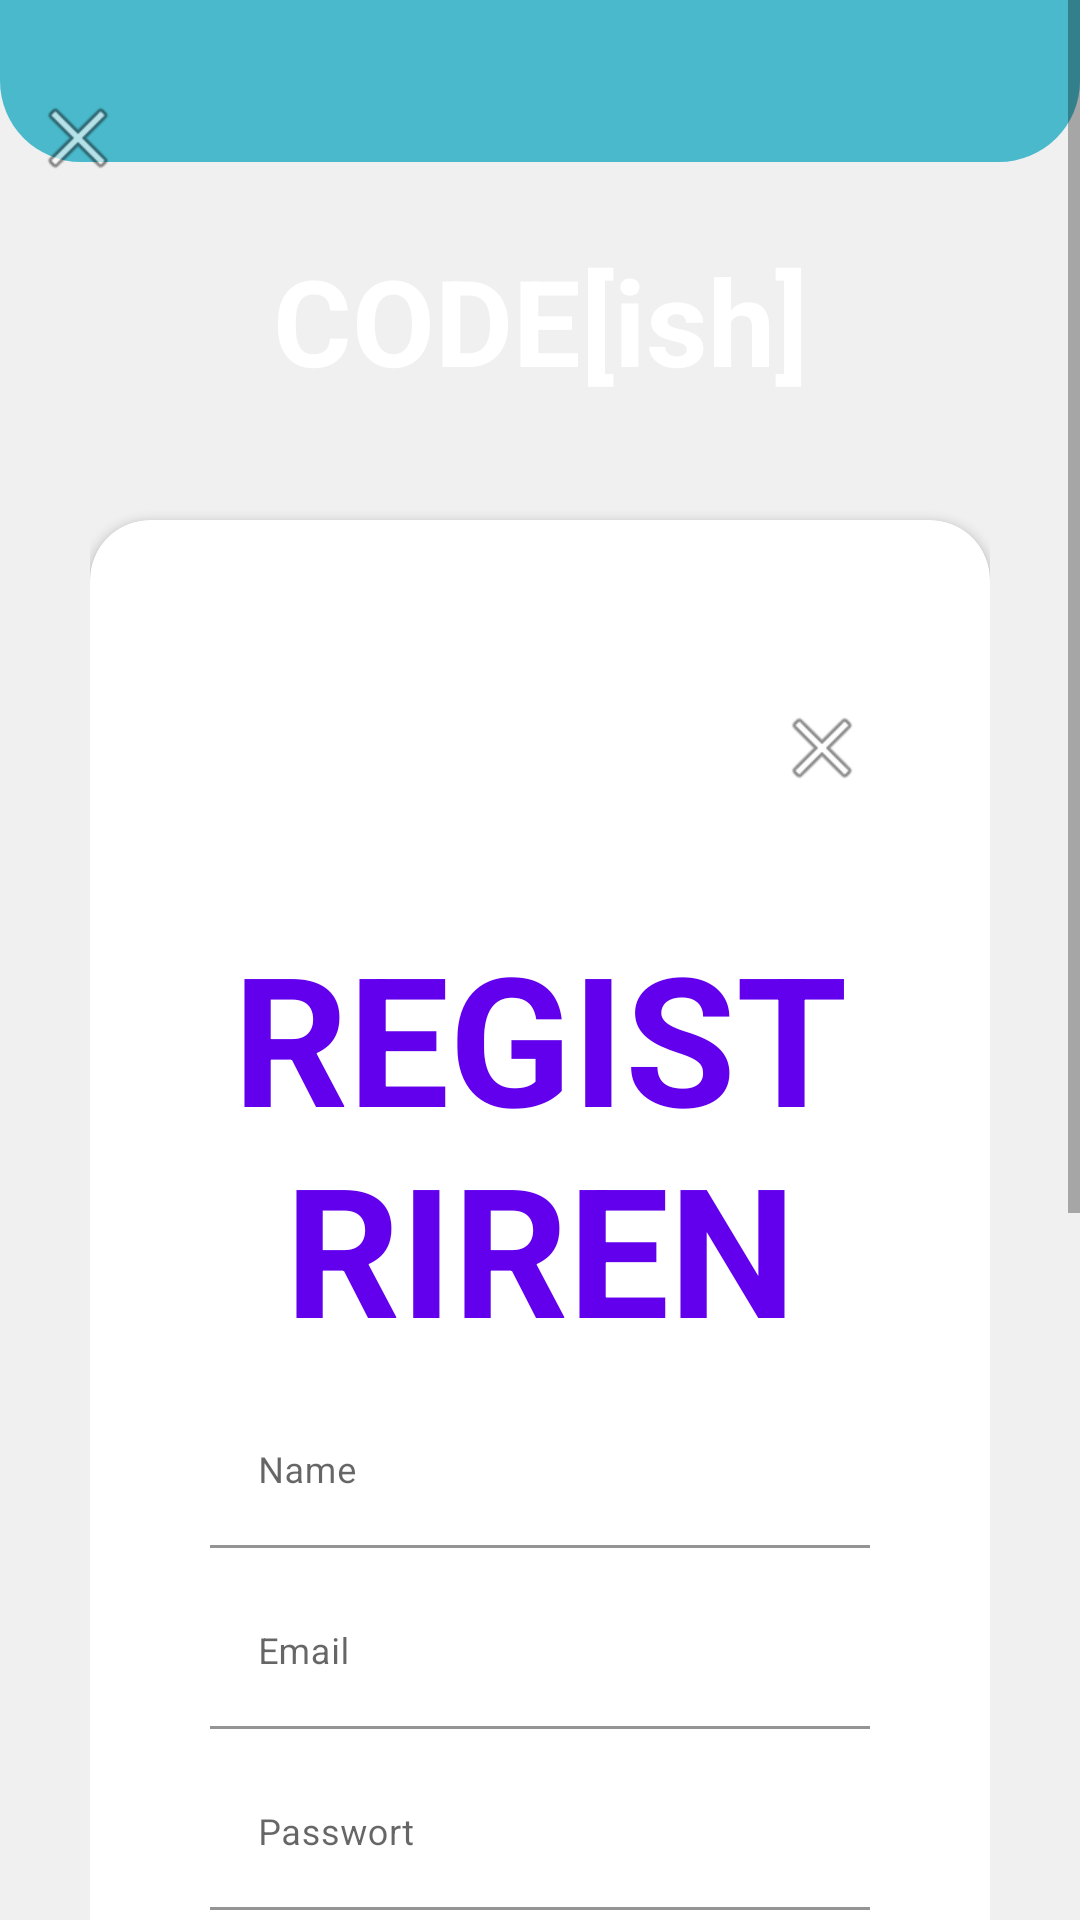

Where to tap for icons on this 1080px×1920px app screen, as point (x, y):
close clear cancel: point (78, 138), point (822, 748)
